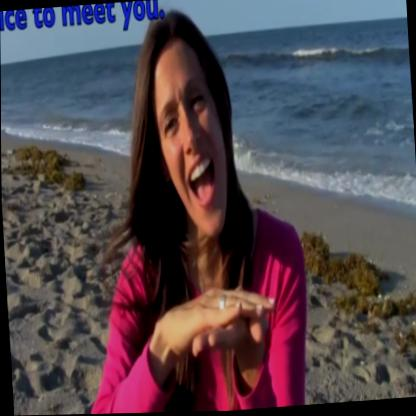NiceToMeetYou: (153, 251, 274, 386)
